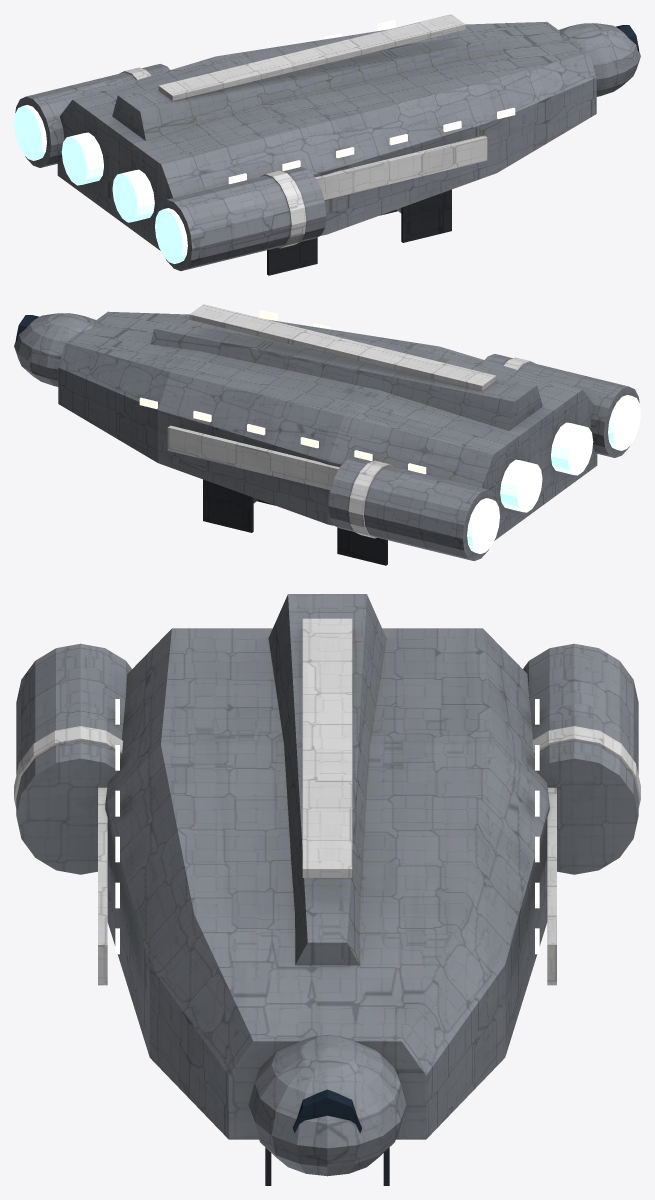
The model's file is empire-gozanti.glb.
3 renders of one model, top to bottom at view 1: azimuth 30°, elevation 25°; view 2: azimuth 150°, elevation 25°; view 3: azimuth 270°, elevation 25°, orthographic. The views are drawn at different scales.
Visible parts, largest first — view 1: Gozanti; view 2: Gozanti; view 3: Gozanti.
Boxes of the visible parts, x1=… form: Gozanti: x1=14, y1=14, x2=640, y2=275; Gozanti: x1=14, y1=304, x2=640, y2=565; Gozanti: x1=14, y1=594, x2=640, y2=1185.
Size of the model in its own units: 2.2 by 0.755 by 1.27.
6 materials, 6 textured.
